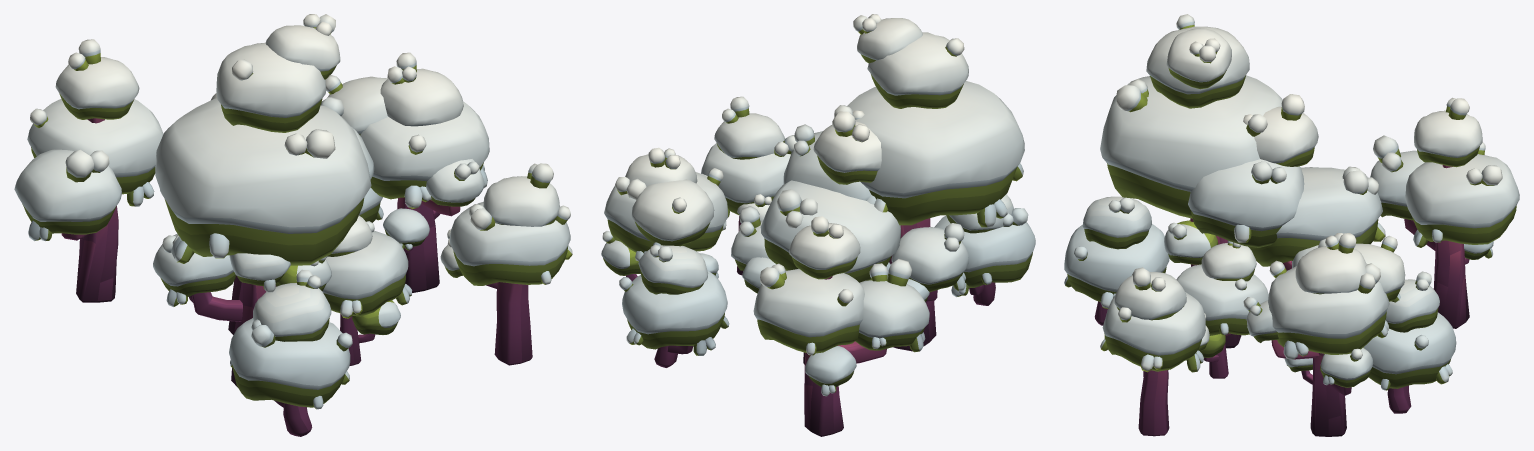
The model's file is grassland_tree_group_col1_snow.fbx.
The picture shows the model from 3 angles, left to right: view 1: azimuth 30°, elevation 25°; view 2: azimuth 150°, elevation 25°; view 3: azimuth 270°, elevation 25°; orthographic projection. The views are drawn at different scales.
Visible parts, largest first — view 1: grassland_tree_group_col1_snow; view 2: grassland_tree_group_col1_snow; view 3: grassland_tree_group_col1_snow.
Boxes of the visible parts, x1,y1,x2,y2 form: grassland_tree_group_col1_snow: (14,14,572,436); grassland_tree_group_col1_snow: (601,14,1035,436); grassland_tree_group_col1_snow: (1064,14,1519,436).
Bounding box in the file's own units: 1732 × 1490 × 1919.
Materials: 1 (1 with a texture image).
